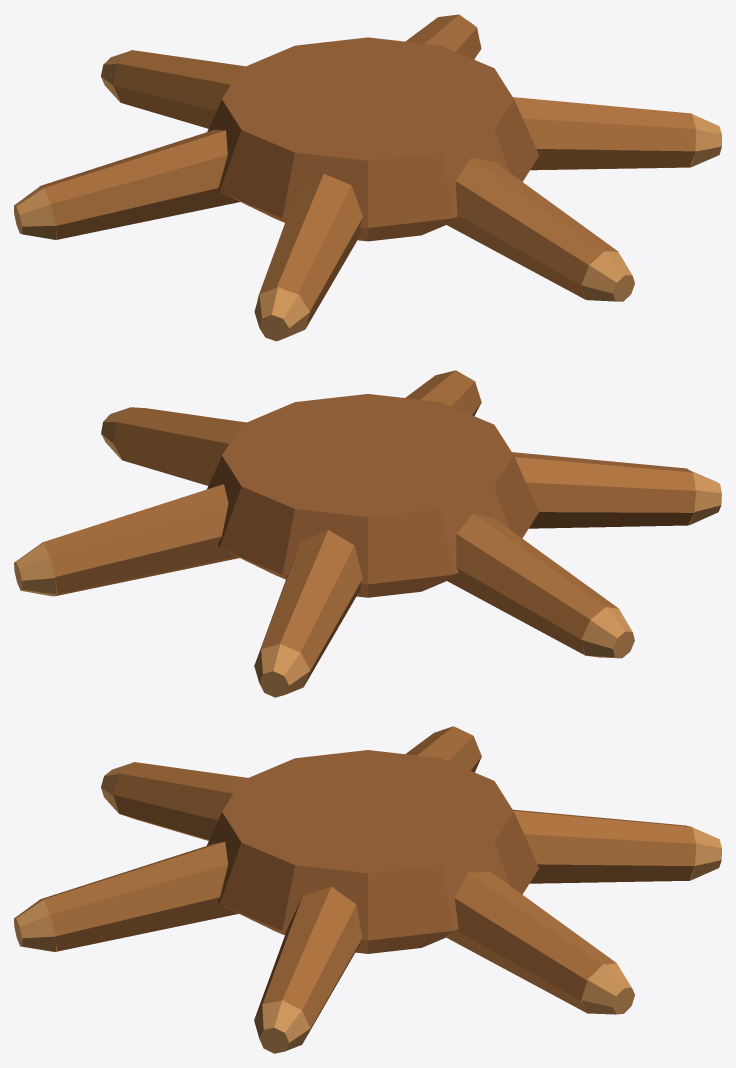
The model's file is FibrousRoot.obj.
3 renders of one model, top to bottom at view 1: azimuth 30°, elevation 25°; view 2: azimuth 150°, elevation 25°; view 3: azimuth 270°, elevation 25°, orthographic.
Visible parts, largest first — view 1: FibrousRoot_FibrousRoots, FibrousRoot_FibrousCrown, FibrousRoot_FibrousTips; view 2: FibrousRoot_FibrousRoots, FibrousRoot_FibrousCrown, FibrousRoot_FibrousTips; view 3: FibrousRoot_FibrousRoots, FibrousRoot_FibrousCrown, FibrousRoot_FibrousTips.
Boxes of the visible parts, x1=… form: FibrousRoot_FibrousRoots: x1=40, y1=14, x2=696, y2=328; FibrousRoot_FibrousCrown: x1=207, y1=37, x2=539, y2=241; FibrousRoot_FibrousTips: x1=14, y1=14, x2=721, y2=341; FibrousRoot_FibrousRoots: x1=41, y1=370, x2=696, y2=686; FibrousRoot_FibrousCrown: x1=207, y1=394, x2=538, y2=597; FibrousRoot_FibrousTips: x1=14, y1=378, x2=721, y2=697; FibrousRoot_FibrousRoots: x1=41, y1=726, x2=696, y2=1039; FibrousRoot_FibrousCrown: x1=207, y1=750, x2=538, y2=953; FibrousRoot_FibrousTips: x1=14, y1=762, x2=721, y2=1053.
Size of the model in its own units: 3.64 by 0.5888 by 3.64.
